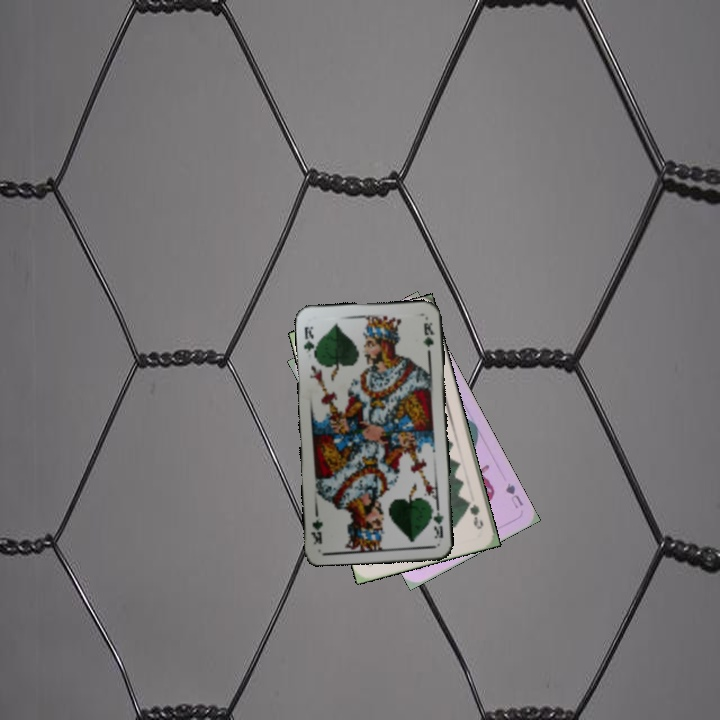G9: (463, 496, 486, 532)
GK: (300, 322, 320, 360), (427, 503, 446, 541)
GU: (501, 479, 526, 511)
